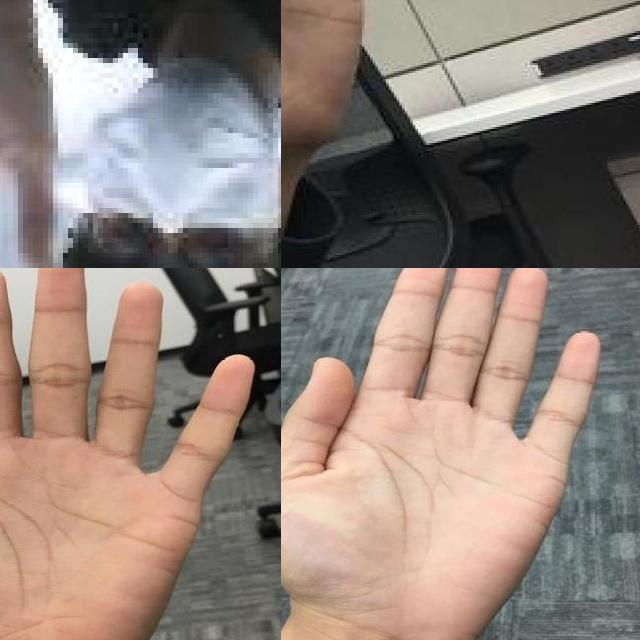no-gloves: (281, 268, 605, 640), (0, 268, 257, 640), (0, 0, 170, 268), (281, 0, 437, 173)
